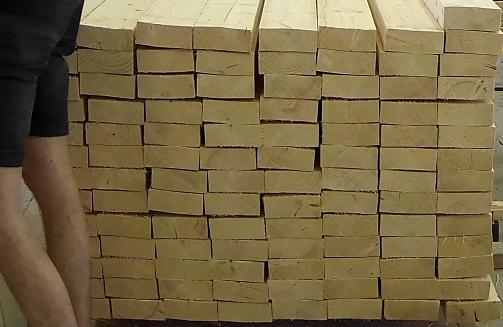Wood-Plank: (382, 281, 474, 301), (137, 21, 194, 49), (195, 26, 253, 52), (148, 189, 203, 216), (318, 27, 377, 52), (383, 28, 444, 52), (78, 24, 132, 51), (265, 74, 321, 100), (80, 73, 135, 99), (96, 214, 151, 240), (319, 49, 376, 74), (203, 99, 260, 124), (261, 96, 318, 121), (447, 30, 503, 55), (444, 6, 500, 31), (380, 51, 436, 76), (196, 50, 254, 74), (137, 74, 195, 98), (262, 124, 320, 148), (381, 76, 438, 100), (440, 125, 497, 149), (152, 215, 206, 240), (144, 122, 200, 146), (137, 49, 195, 72), (145, 100, 203, 123), (88, 100, 143, 124), (439, 255, 494, 279), (259, 52, 316, 75), (323, 75, 380, 98), (323, 100, 380, 123), (144, 146, 198, 170), (438, 276, 492, 300), (77, 50, 133, 73), (439, 77, 495, 100), (382, 102, 438, 125), (439, 102, 495, 125), (90, 167, 146, 190), (265, 195, 321, 218), (197, 75, 255, 97), (436, 149, 494, 171), (89, 145, 144, 168), (321, 147, 378, 169), (323, 169, 377, 192), (439, 235, 493, 258), (52, 298, 111, 319), (204, 125, 260, 147), (265, 171, 321, 193), (208, 171, 264, 193), (322, 193, 378, 215), (209, 218, 265, 240), (325, 236, 381, 258), (30, 74, 79, 99), (449, 301, 502, 324), (323, 123, 378, 145), (152, 170, 207, 192), (205, 194, 260, 216), (30, 49, 78, 74), (382, 215, 436, 237), (441, 55, 497, 76), (382, 126, 438, 147), (200, 148, 256, 169), (258, 149, 314, 170), (381, 149, 437, 170), (381, 193, 437, 214), (385, 301, 441, 322), (259, 29, 315, 50), (45, 188, 92, 213), (43, 167, 94, 190), (439, 193, 492, 215), (101, 238, 154, 260), (93, 191, 148, 212), (438, 216, 493, 237), (324, 215, 379, 236), (212, 241, 267, 262), (383, 237, 438, 258), (381, 258, 436, 279), (213, 282, 268, 303), (380, 172, 437, 192), (439, 171, 493, 192), (328, 299, 382, 320), (85, 125, 141, 145), (267, 219, 322, 239), (325, 259, 380, 279), (158, 280, 213, 300), (52, 257, 102, 279), (325, 279, 379, 299), (269, 281, 323, 301), (273, 301, 327, 321), (163, 302, 217, 322), (156, 261, 210, 281), (111, 300, 165, 320), (41, 121, 84, 146), (213, 261, 264, 282), (104, 280, 157, 300), (47, 215, 97, 236), (269, 261, 324, 280), (41, 98, 86, 121), (41, 145, 88, 167), (156, 240, 210, 259), (269, 240, 323, 259), (218, 304, 272, 323), (52, 237, 100, 258), (102, 260, 154, 279), (53, 279, 105, 298)
